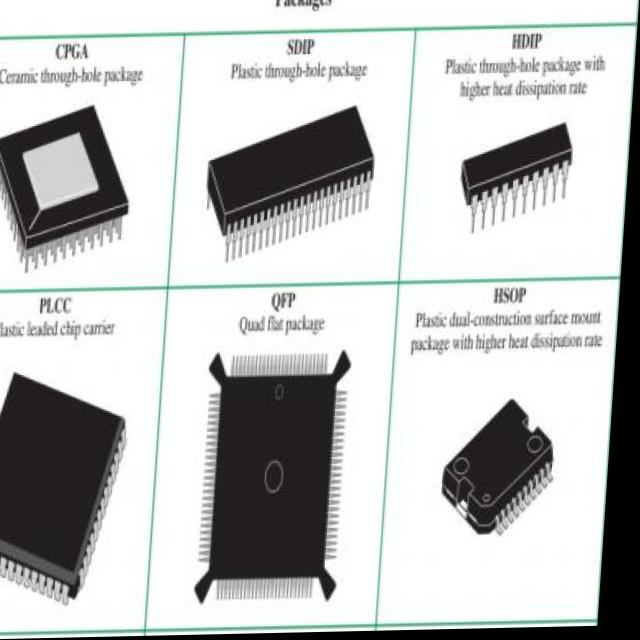IC chip: (199, 355, 355, 608), (0, 374, 134, 603), (206, 107, 377, 266), (0, 109, 131, 277), (448, 404, 560, 540), (463, 129, 574, 239)
